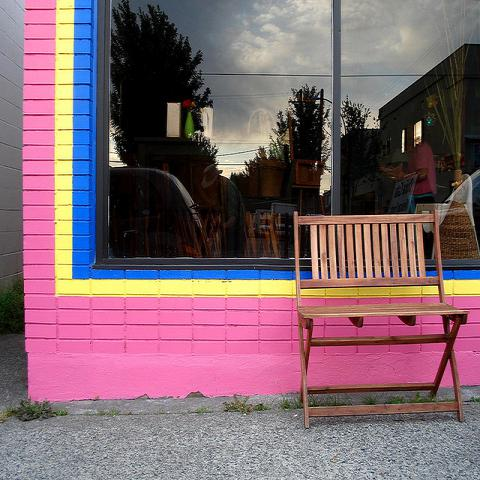car: (108, 169, 212, 259), (256, 218, 272, 236)
